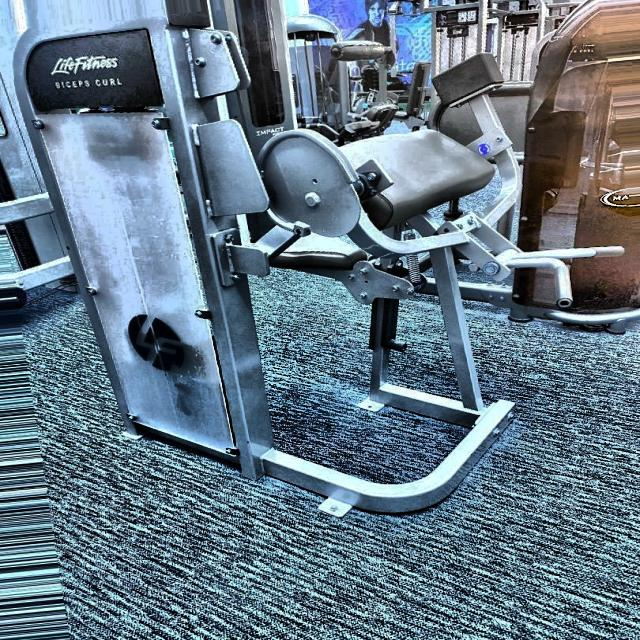bicep_curl_machine: (199, 10, 628, 522), (48, 78, 136, 96)
